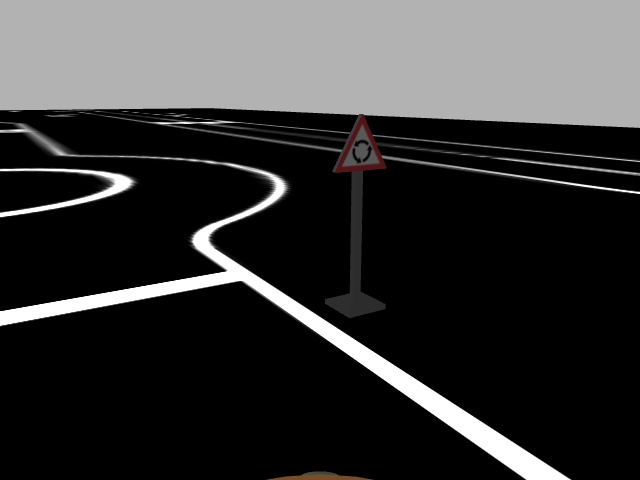roundabout: (331, 114, 388, 174)
